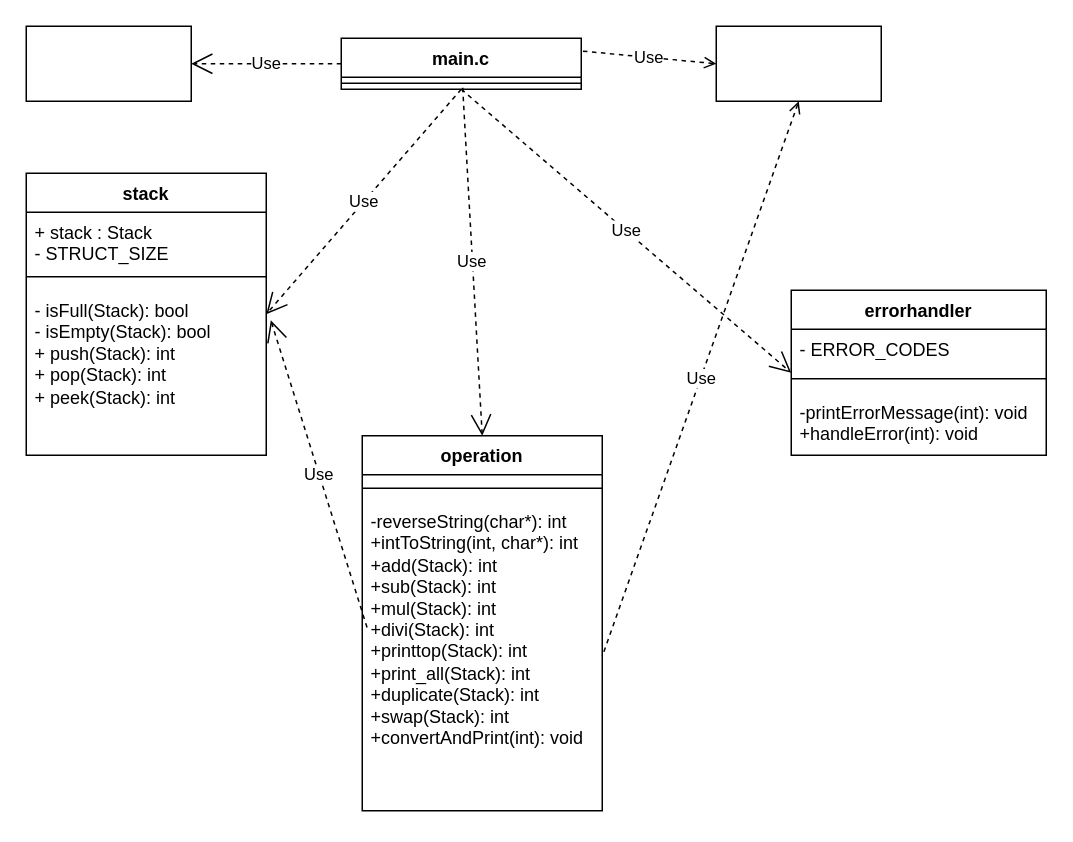
Image size: 1073x842. Some labels were removed from this diagram. Here are the shapes that lost their labels. From the top down, the centre of each, then its label:
At [108,63]: "scanner".
At [798,63]: "display".
